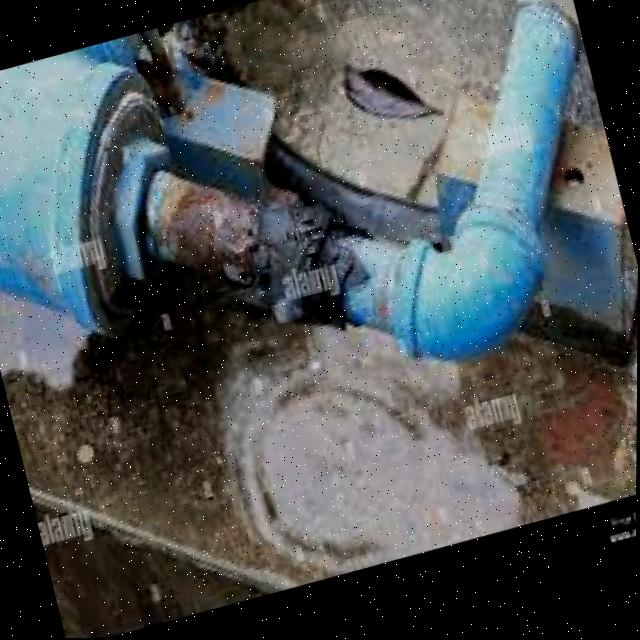corrosion: (174, 140, 440, 447)
